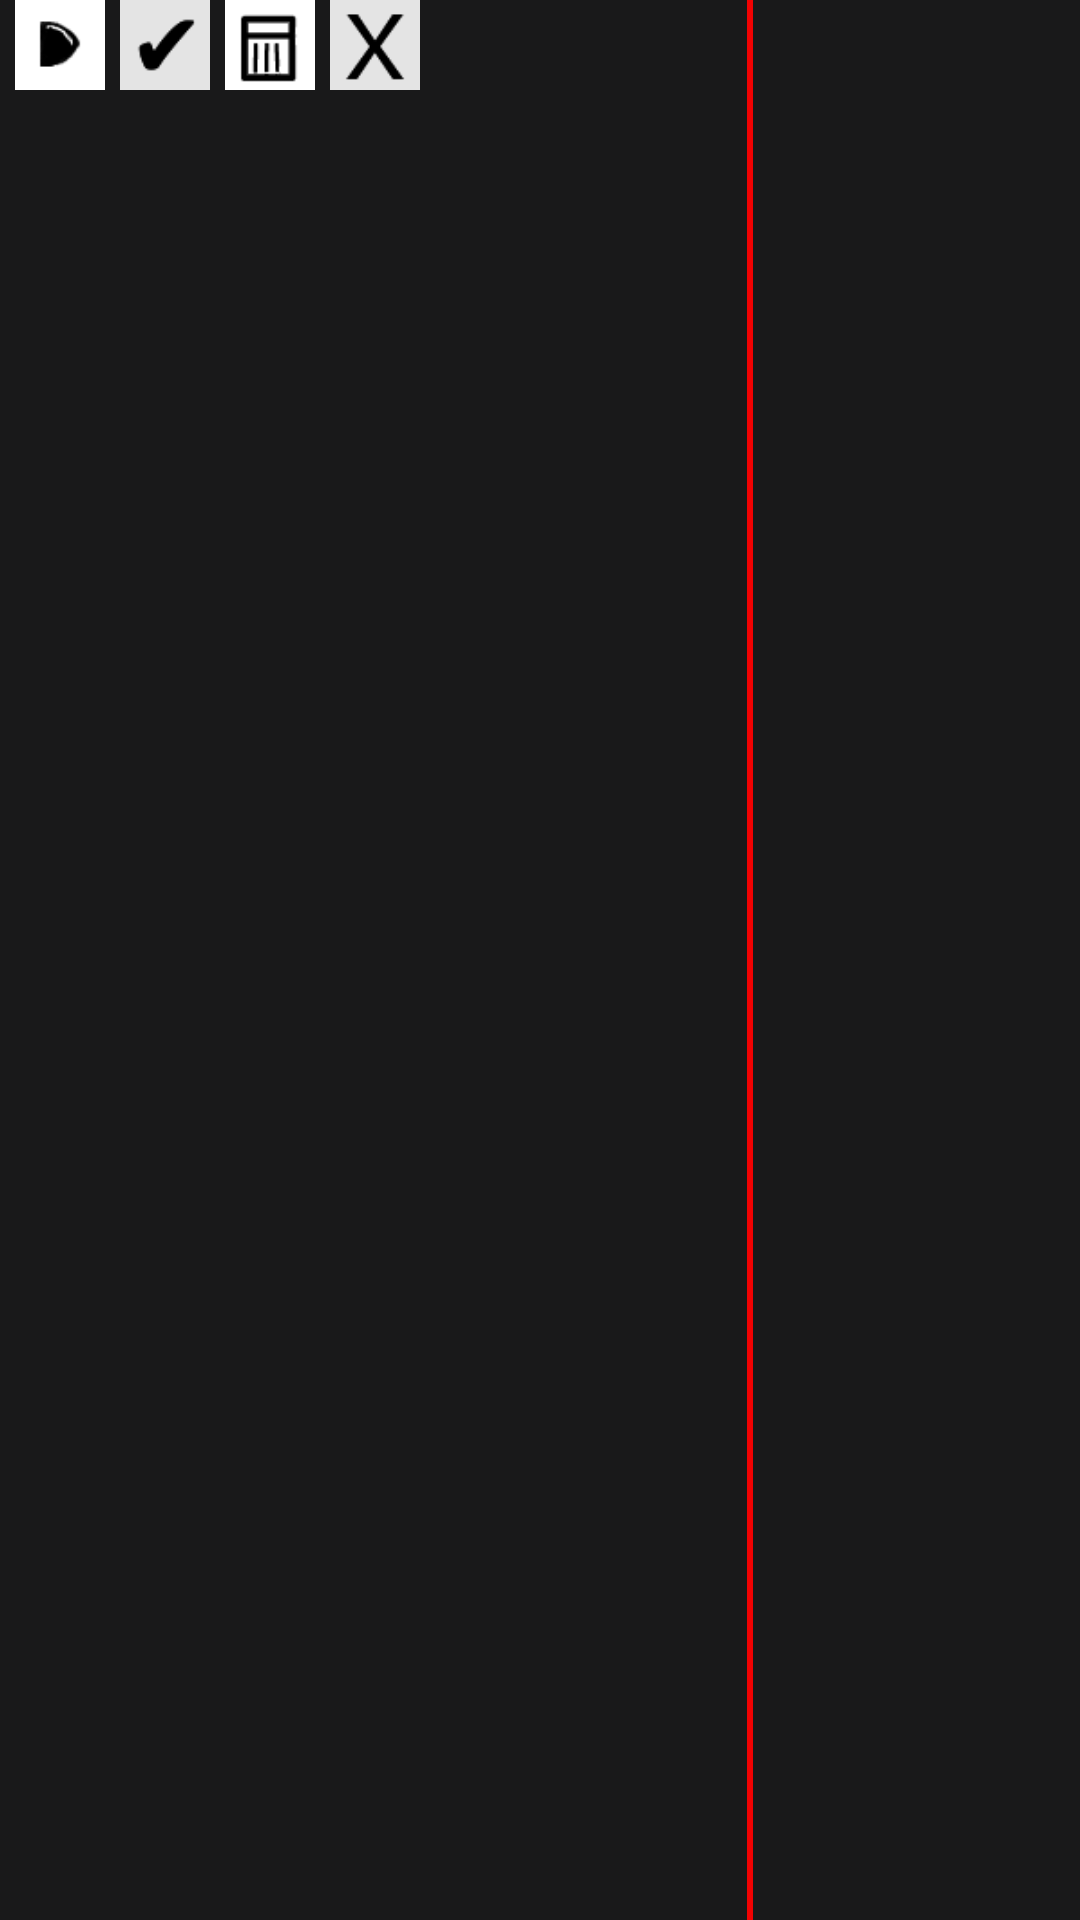

Named icons in this screenshot (1080 x 1920) and their bounding boxes, (left=x1, top=y1, right=x2, bottom=y2):
borrar: (left=225, top=0, right=315, bottom=90)
play: (left=15, top=0, right=105, bottom=90)
